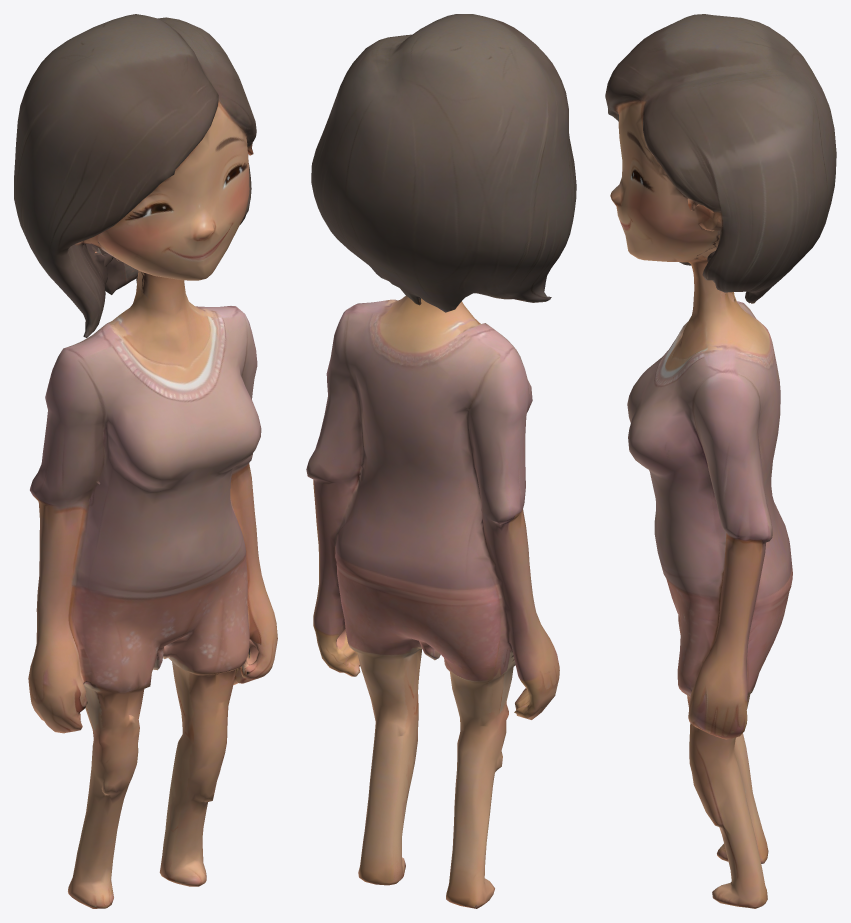
The model's file is mother.glb.
3 renders of one model, left to right at view 1: azimuth 30°, elevation 25°; view 2: azimuth 150°, elevation 25°; view 3: azimuth 270°, elevation 25°, orthographic. The views are drawn at different scales.
Bounding box in the file's own units: 19175 × 65661 × 16296.
1 material, 1 textured.
